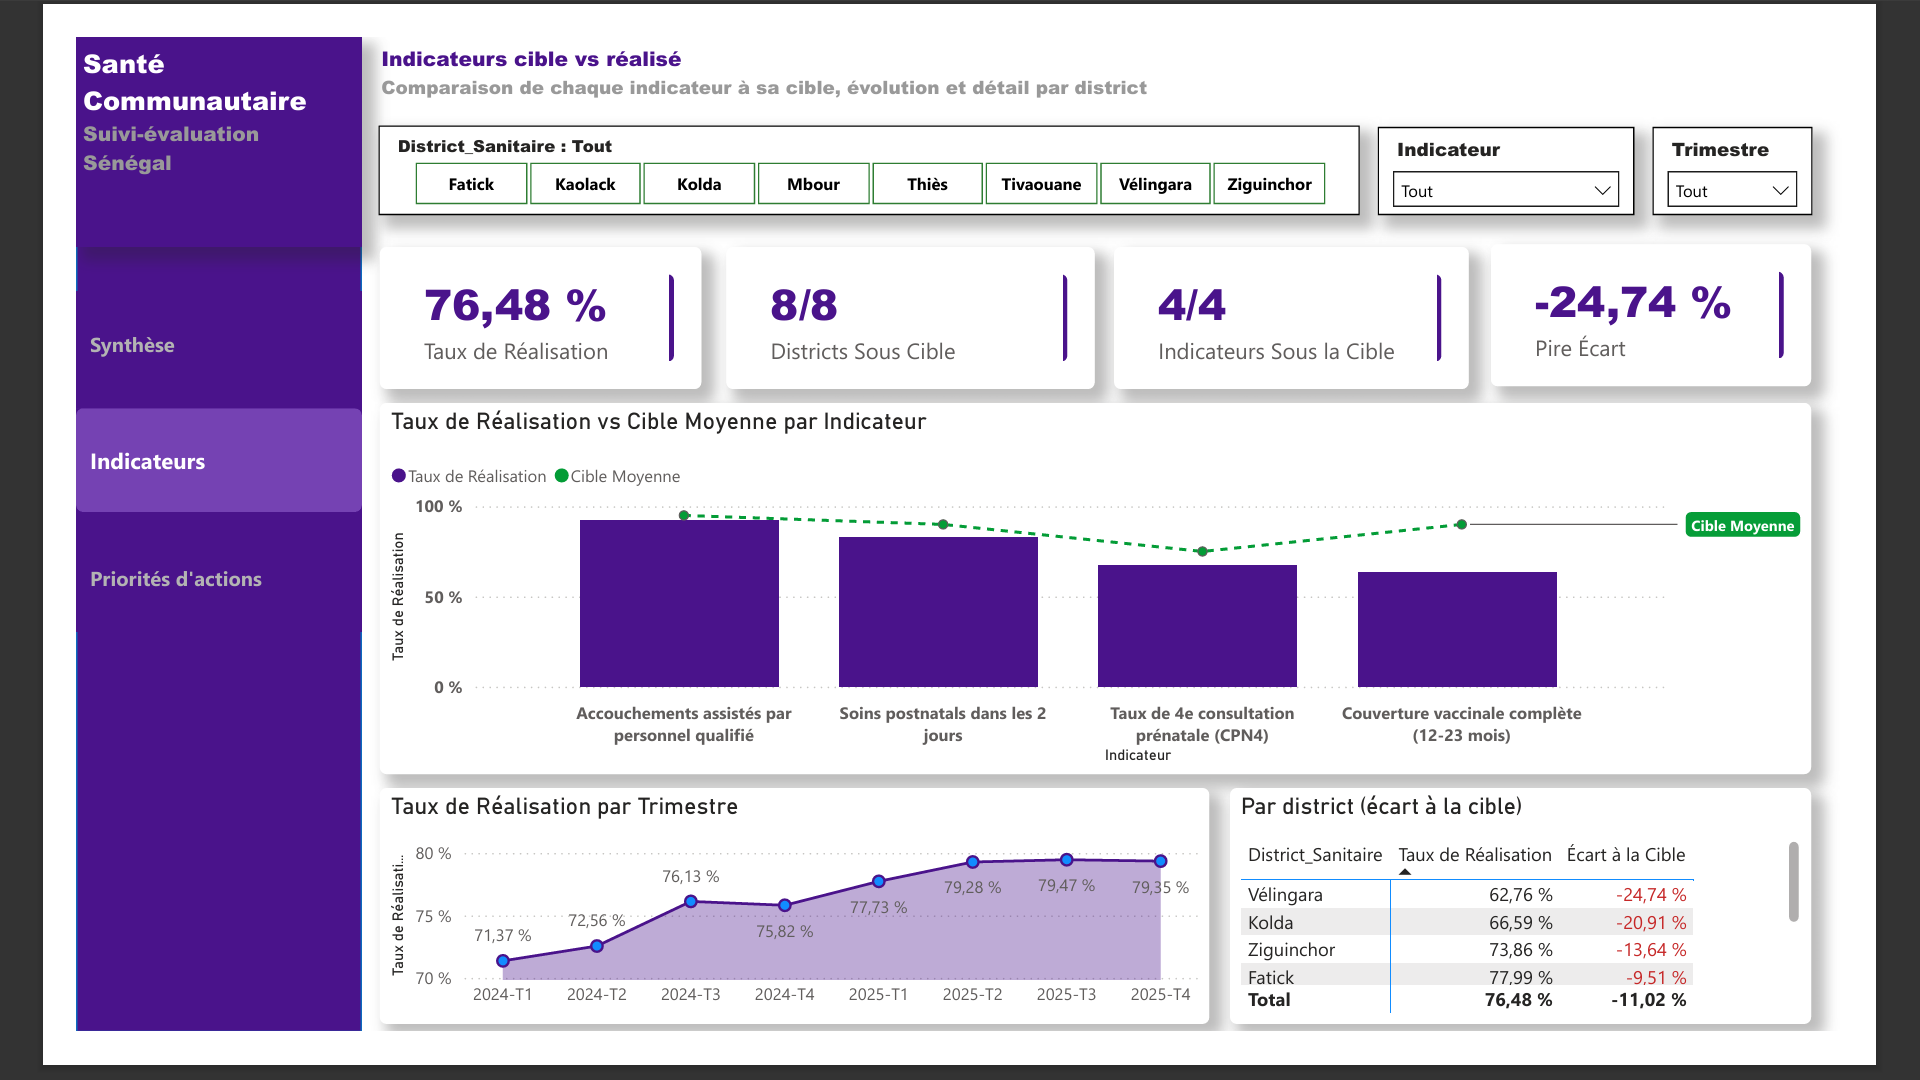

Layout of this report page (visuals, bound fields, positions):
{"tool":"powerbi","page":{"name":"Indicateurs","canvas":[1280,720],"ordinal":1},"visuals":[{"type":"shape","box":[0,0,207.1,720.6],"z":0},{"type":"pageNavigator","box":[0,183.9,207.1,246.8],"z":1000},{"type":"textbox","box":[0,0,207.1,152.4],"z":2000},{"type":"textbox","box":[216.4,0,602.2,64.6],"z":3000},{"type":"slicer","fields":{"Values":["Districts.District_Sanitaire"]},"box":[219.3,64,710.4,64.6],"z":4000},{"type":"cardVisual","fields":{"Data":["Districts.Taux de Réalisation"]},"box":[219.9,151.9,233.6,102.7],"z":5000},{"type":"cardVisual","fields":{"Data":["Districts.Districts Sous Cible Affichage"]},"box":[471.3,151.9,267.1,103],"z":6000},{"type":"cardVisual","fields":{"Data":["Districts.Indicateurs Sous Cible Affichage"]},"box":[752.3,151.9,256.6,103],"z":7000},{"type":"cardVisual","fields":{"Data":["Districts.Écart Minimum"]},"box":[1024.6,150.1,232.1,103],"z":8000},{"type":"lineClusteredColumnComboChart","title":"Taux de Réalisation vs Cible Moyenne par Indicateur","fields":{"Category":["Suivi_Indicateurs.Indicateur"],"Y":["Districts.Taux de Réalisation"],"Y2":["Districts.Cible Moyenne"]},"box":[219.9,265.3,1036.8,268.8],"z":9000},{"type":"lineChart","fields":{"Category":["Suivi_Indicateurs.Trimestre"],"Y":["Districts.Taux de Réalisation"]},"box":[220.1,543.5,600.4,171.1],"z":10000},{"type":"pivotTable","title":"Par district (écart à la cible)","fields":{"Rows":["Districts.District_Sanitaire"],"Values":["Districts.Taux de Réalisation","Districts.Écart à la Cible"]},"box":[836.3,543.5,420.7,171.1],"z":11000},{"type":"slicer","fields":{"Values":["Suivi_Indicateurs.Indicateur"]},"box":[942.6,64.6,186.8,64.6],"z":12000},{"type":"slicer","fields":{"Values":["Suivi_Indicateurs.Trimestre"]},"box":[1141.5,64.6,116.9,64.6],"z":13000}]}

Visuals, with their boxes in screenshot pixels (x1, y1, x2, y2), scaled from the page's 1280x720 canvas onto the 1920x1080 screenshot:
shape: <box>0,0,311,1079</box>
pageNavigator: <box>0,276,311,646</box>
textbox: <box>0,0,311,229</box>
textbox: <box>325,0,1228,97</box>
slicer - Districts.District_Sanitaire: <box>329,96,1395,193</box>
cardVisual - Districts.Taux de Réalisation: <box>330,228,680,382</box>
cardVisual - Districts.Districts Sous Cible Affichage: <box>707,228,1108,382</box>
cardVisual - Districts.Indicateurs Sous Cible Affichage: <box>1128,228,1513,382</box>
cardVisual - Districts.Écart Minimum: <box>1537,225,1885,380</box>
"Taux de Réalisation vs Cible Moyenne par Indicateur" lineClusteredColumnComboChart: <box>330,398,1885,801</box>
lineChart - Suivi_Indicateurs.Trimestre x Districts.Taux de Réalisation: <box>330,815,1231,1072</box>
"Par district (écart à la cible)" pivotTable: <box>1254,815,1886,1072</box>
slicer - Suivi_Indicateurs.Indicateur: <box>1414,97,1694,194</box>
slicer - Suivi_Indicateurs.Trimestre: <box>1712,97,1888,194</box>
